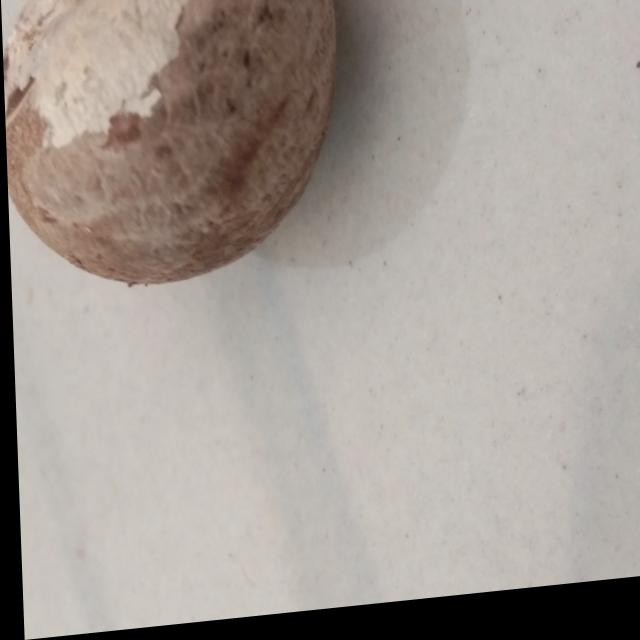good: (0, 0, 350, 331)
